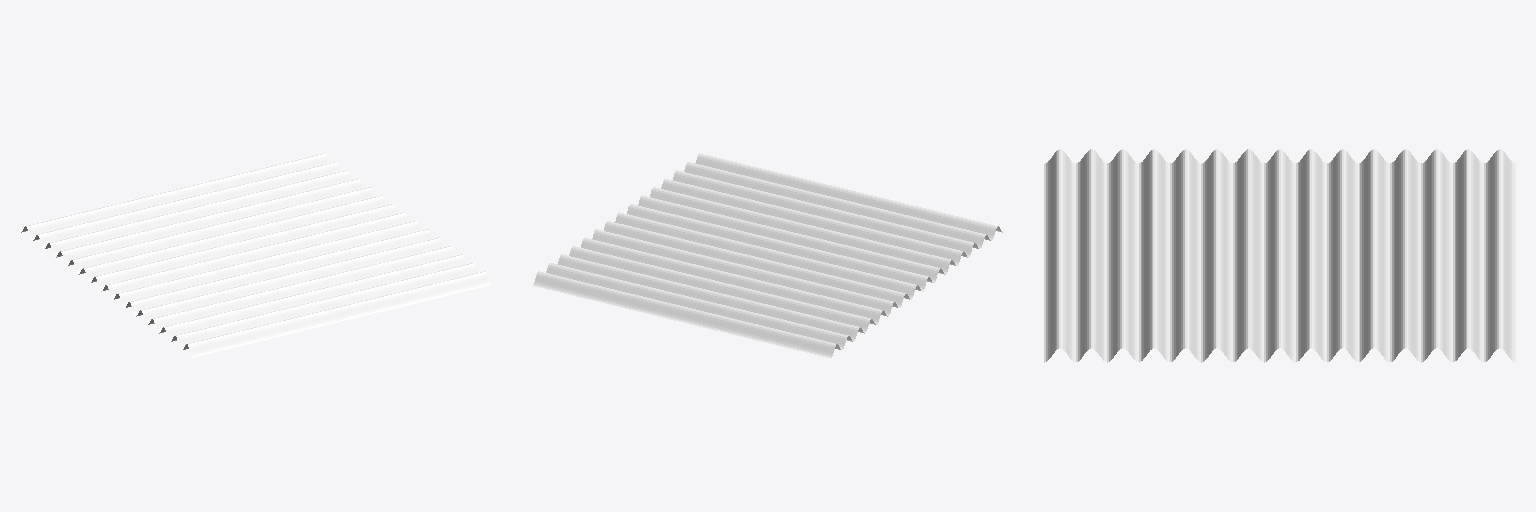
URDF robot description (undulating_a075_w3):
<?xml version="1.0" ?>
<robot name="undulating_a075_w3">
  <link concave="yes" name="undulatingLink">
  <contact>
      <lateral_friction value="2"/>
  </contact>
    <inertial>
      <origin rpy="0 0 0" xyz="0 0 0"/>
       <mass value=".0"/>
       <inertia ixx="0" ixy="0" ixz="0" iyy="0" iyz="0" izz="0"/>
    </inertial>
    <visual>
      <origin rpy="0 0 0" xyz="0 0 0"/>
      <geometry>
		    <mesh filename="package://snakelib_terrain/meshes/undulating_a025_w1.obj" scale="1 1 1"/>
      </geometry>
       <material name="white">
        <color rgba="1 1 1 1"/>
      </material>
    </visual>
    <collision concave="yes">
      <origin rpy="0 0 0" xyz="0 0 0"/>
      <geometry>
	 	    <mesh filename="package://snakelib_terrain/meshes/undulating_a025_w1.obj" scale="1 1 1"/>
      </geometry>
    </collision>
  </link>
</robot>
<!--- Undulating terrain with amplitude 0.25 meters and wavelength of 1 meters -->

--- Facts derived from the render (not from the file) ---
3 views of the same robot in one strip: view 1: azimuth 30°, elevation 25°; view 2: azimuth 150°, elevation 25°; view 3: azimuth 270°, elevation 25° (orthographic).
Model undulating_a075_w3 with 1 links and 0 joints (none), rooted at undulatingLink, posed all joints at 0.
Visible links, largest first — view 1: undulatingLink; view 2: undulatingLink; view 3: undulatingLink.
Link boxes in pixels (x1,y1,x2,y2): undulatingLink: [21, 153, 490, 358]; undulatingLink: [533, 153, 1002, 358]; undulatingLink: [1044, 149, 1515, 362].
Bounding box of the posed robot: 15 × 15 × 0.4957 m (x, y, z).
1 mesh visuals loaded from 1 distinct referenced files (1 OBJ).